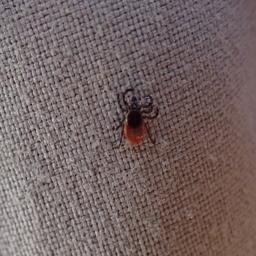Ixodes scapularis: (112, 92, 161, 147)
